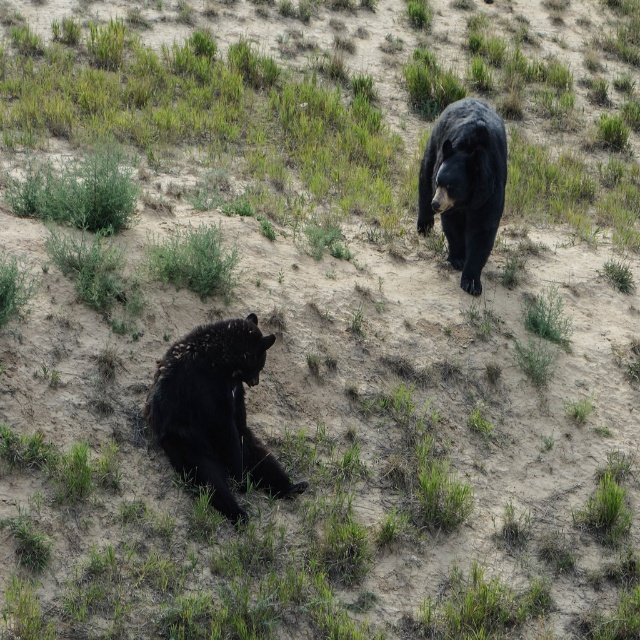Bear: (141, 314, 310, 526), (417, 96, 509, 296)
